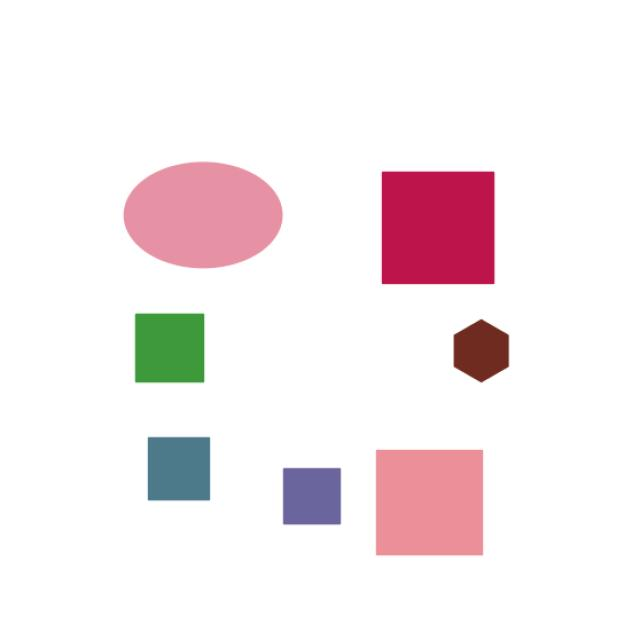Hexagon: (437, 313, 522, 385)
Oval: (113, 155, 313, 292)
square: (357, 166, 522, 305), (369, 432, 506, 570), (129, 305, 224, 401), (130, 425, 227, 511), (275, 451, 353, 535)
